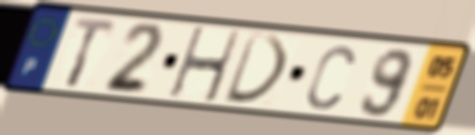2: (103, 21, 167, 96)
9: (359, 46, 416, 118)
C: (304, 42, 358, 112)
D: (221, 30, 293, 107)
H: (166, 25, 244, 105)
T: (64, 14, 120, 90)
